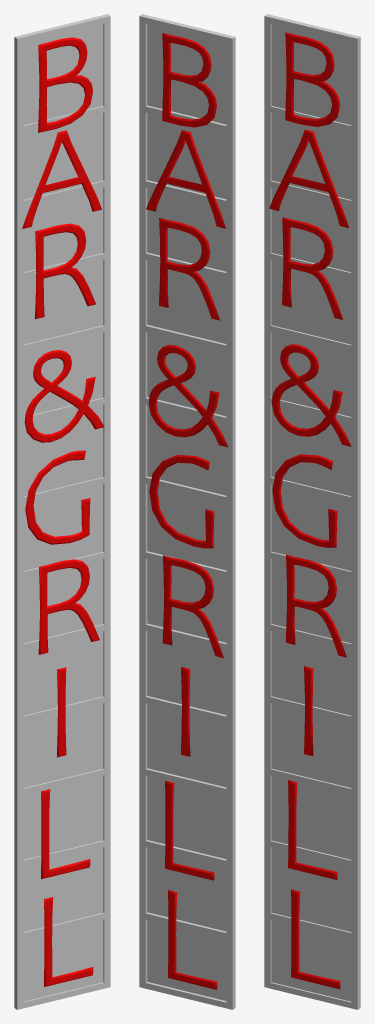
The model's file is Sign2.fbx.
3 views of the same model, side by side, from view 1: azimuth 30°, elevation 25°; view 2: azimuth 150°, elevation 25°; view 3: azimuth 330°, elevation 25° (orthographic).
Visible parts, largest first — view 1: Cube; view 2: Cube; view 3: Cube.
Part boxes in pixels (x1,y1,x2,y2): Cube: (14,14,110,1009); Cube: (139,14,235,1009); Cube: (264,14,360,1009).
Size of the model in its own units: 5.2 by 51.6 by 0.4496.
